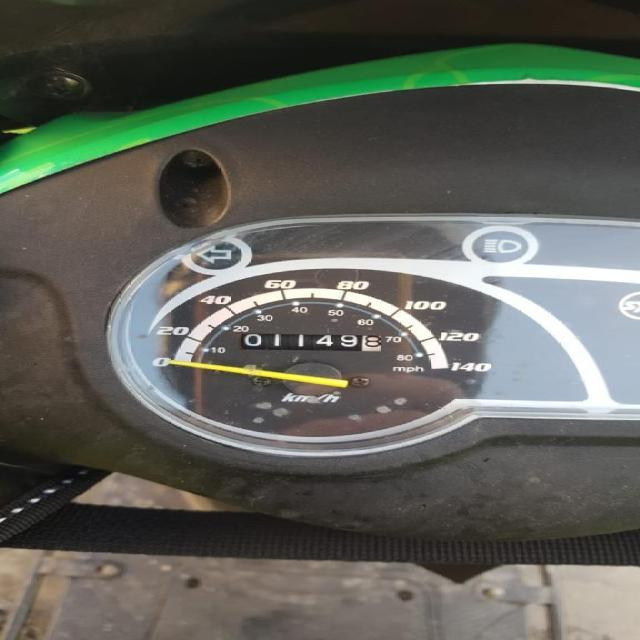odometer: (234, 332, 384, 352)
